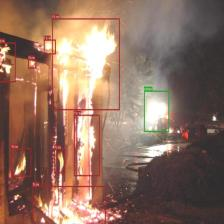fire: (52, 18, 120, 110), (31, 185, 105, 224), (74, 114, 100, 176), (0, 42, 15, 82), (11, 148, 31, 176), (54, 149, 65, 173), (44, 39, 55, 54), (28, 59, 36, 68)
